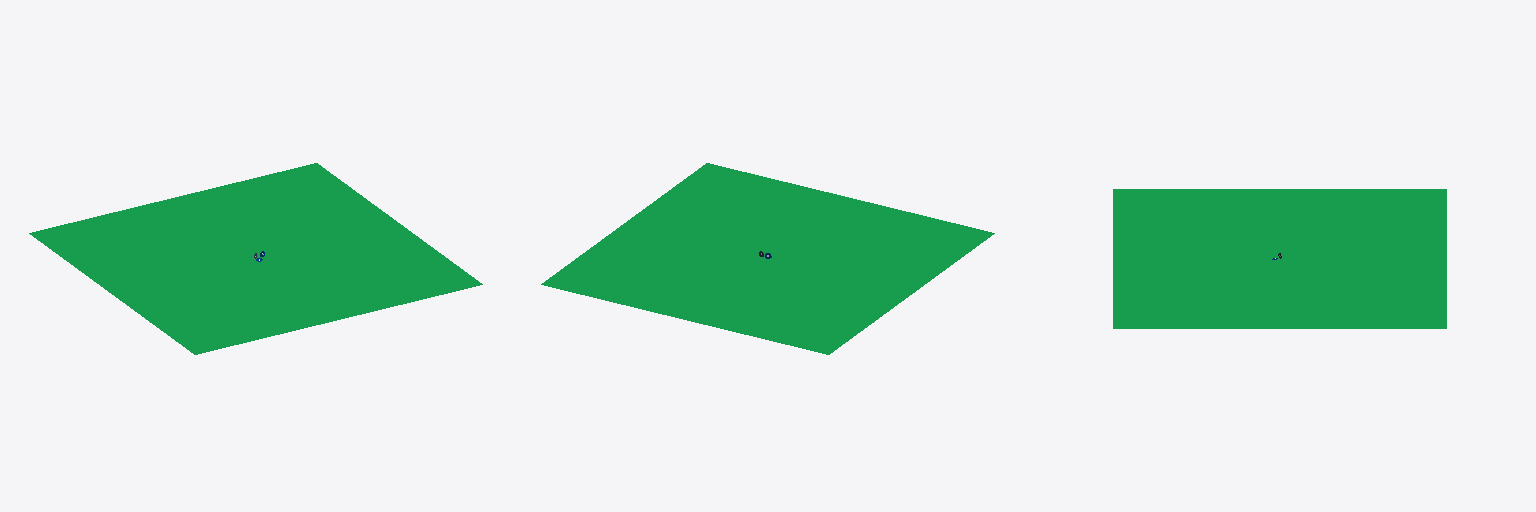
Rendered from DVD_CD.obj.
The picture shows the model from 3 angles: view 1: azimuth 30°, elevation 25°; view 2: azimuth 150°, elevation 25°; view 3: azimuth 270°, elevation 25°; orthographic projection.
Parts seen in each view (by area): view 1: Plane01; view 2: Plane01; view 3: Plane01.
Part boxes in pixels (left/top/right/bottom): Plane01: left=29, top=163, right=482, bottom=354; Plane01: left=541, top=163, right=994, bottom=354; Plane01: left=1113, top=189, right=1446, bottom=328.
Bounding box in the file's own units: 619 × 12.26 × 619.